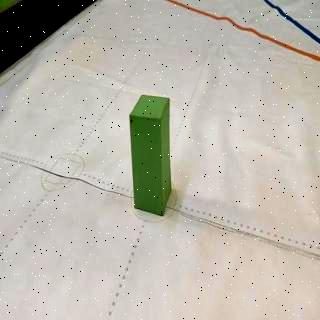greenbox: (128, 95, 170, 216)
